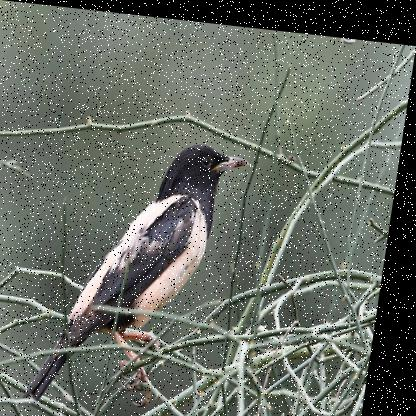Burung: (35, 127, 257, 415)
